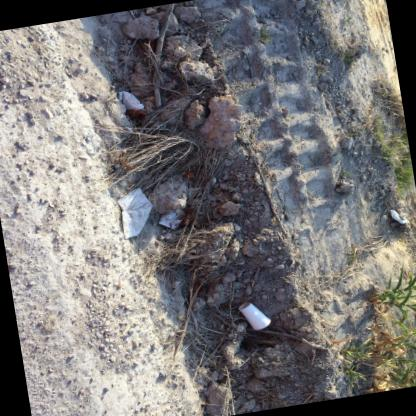Paper: (237, 301, 269, 329), (157, 208, 185, 230), (118, 194, 124, 198)
Plastic: (116, 188, 151, 239), (388, 209, 407, 225)
Waste: (116, 91, 143, 110), (382, 132, 387, 136)
